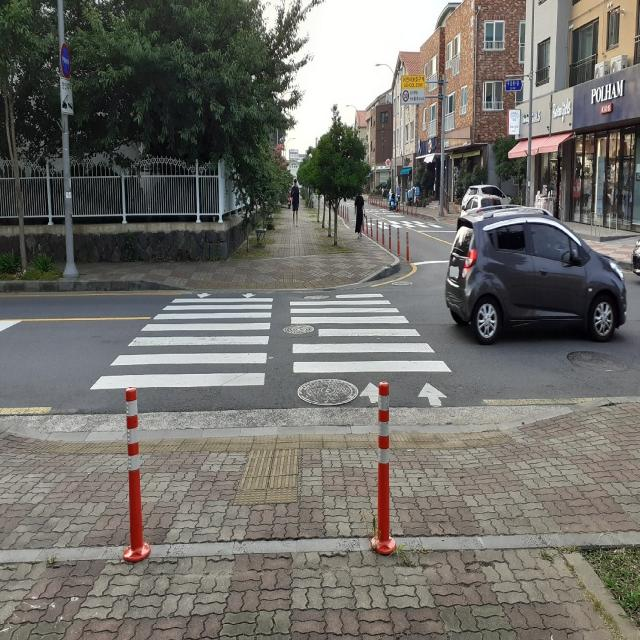횡단보도: (90, 294, 452, 407)
